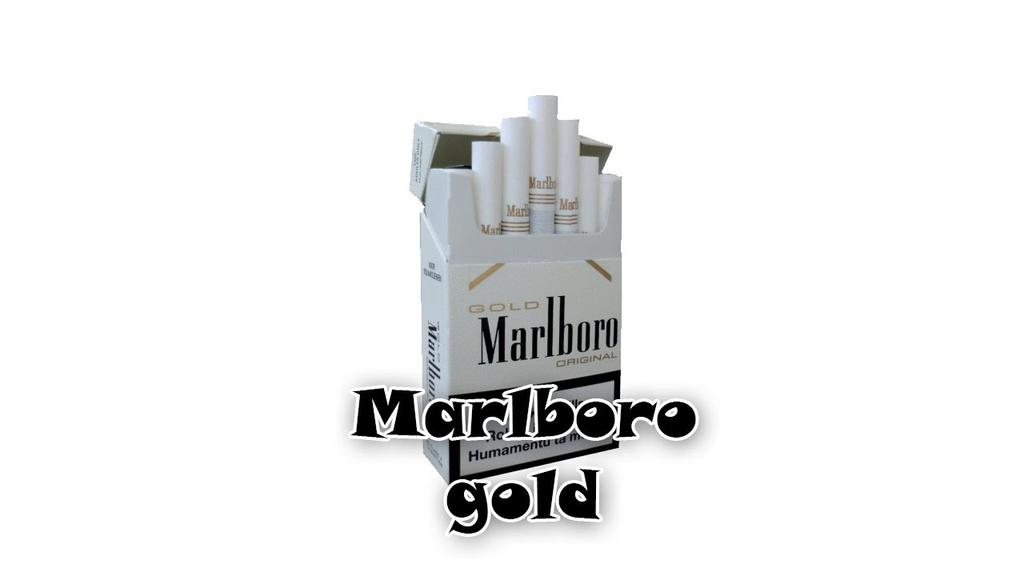marlboro_gold: (448, 206, 619, 448)
